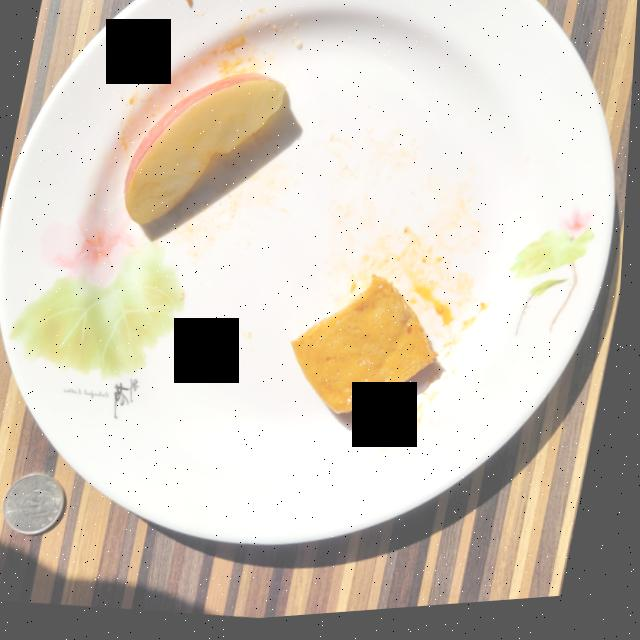apple -sliced-: (126, 77, 286, 227)
coin: (8, 474, 73, 537)
creamy tofu: (295, 281, 441, 419)
